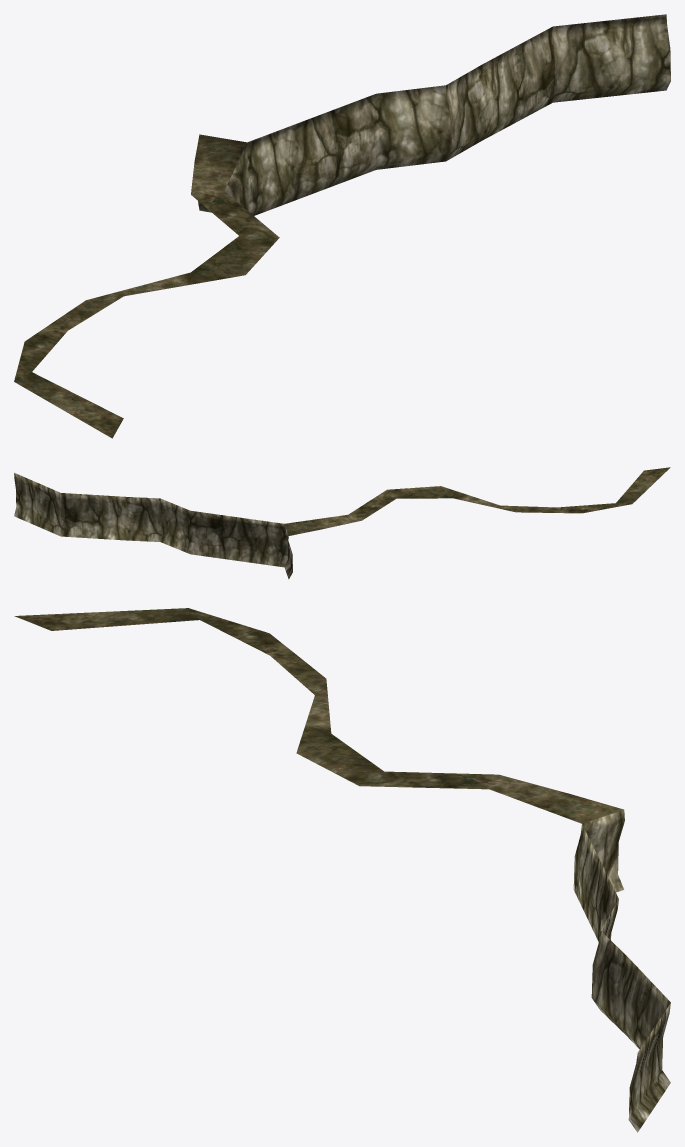
The model's file is CB_NEWPLAYSURFACE_CB_PLAYSURFACE141.fbx.
3 views of the same model, one above another, from view 1: azimuth 30°, elevation 25°; view 2: azimuth 150°, elevation 25°; view 3: azimuth 270°, elevation 25° (orthographic). The views are drawn at different scales.
Parts seen in each view (by area): view 1: CB_NEWPLAYSURFACE_CB_PLAYSURFACE141; view 2: CB_NEWPLAYSURFACE_CB_PLAYSURFACE141; view 3: CB_NEWPLAYSURFACE_CB_PLAYSURFACE141.
Part boxes in pixels (left/top/right/bottom): CB_NEWPLAYSURFACE_CB_PLAYSURFACE141: left=14, top=14, right=670, bottom=438; CB_NEWPLAYSURFACE_CB_PLAYSURFACE141: left=14, top=467, right=670, bottom=579; CB_NEWPLAYSURFACE_CB_PLAYSURFACE141: left=14, top=608, right=670, bottom=1132.
Bounding box in the file's own units: 475711 × 40030 × 296932.
2 materials, 2 textured.
